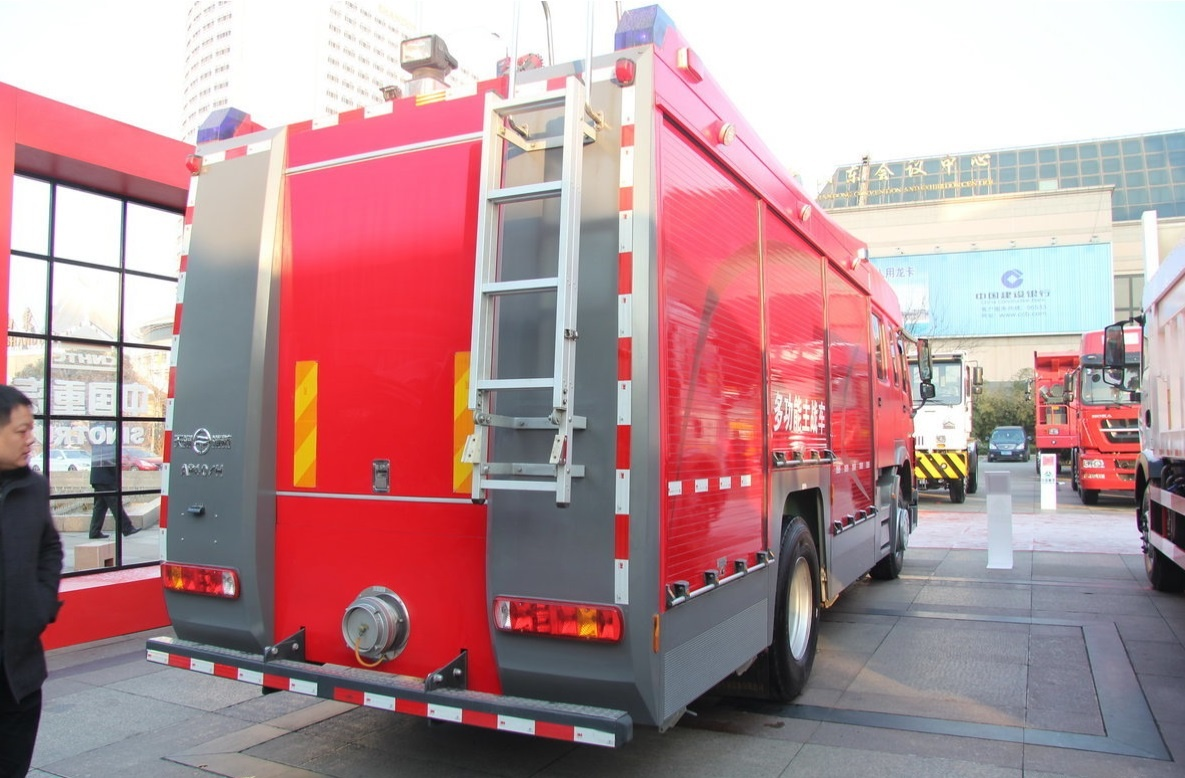fire engine: (157, 22, 929, 762)
